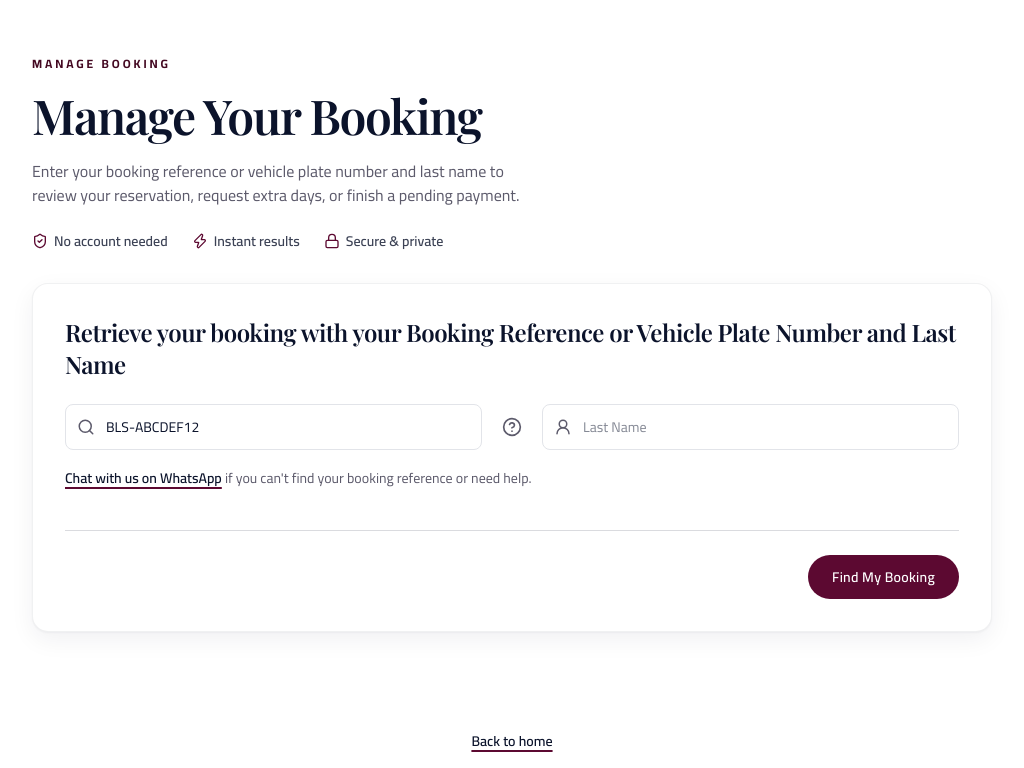
Scenario: ManageBookingPage › ?ref= pre-fill from an email link (Phase 9D) › still looks up the booking once the customer enters their last name and presses the button
Type "Renter" into the field with placeholder "Last Name".
click(750, 427); type("Renter")  # box left=542, top=404, right=959, bottom=450
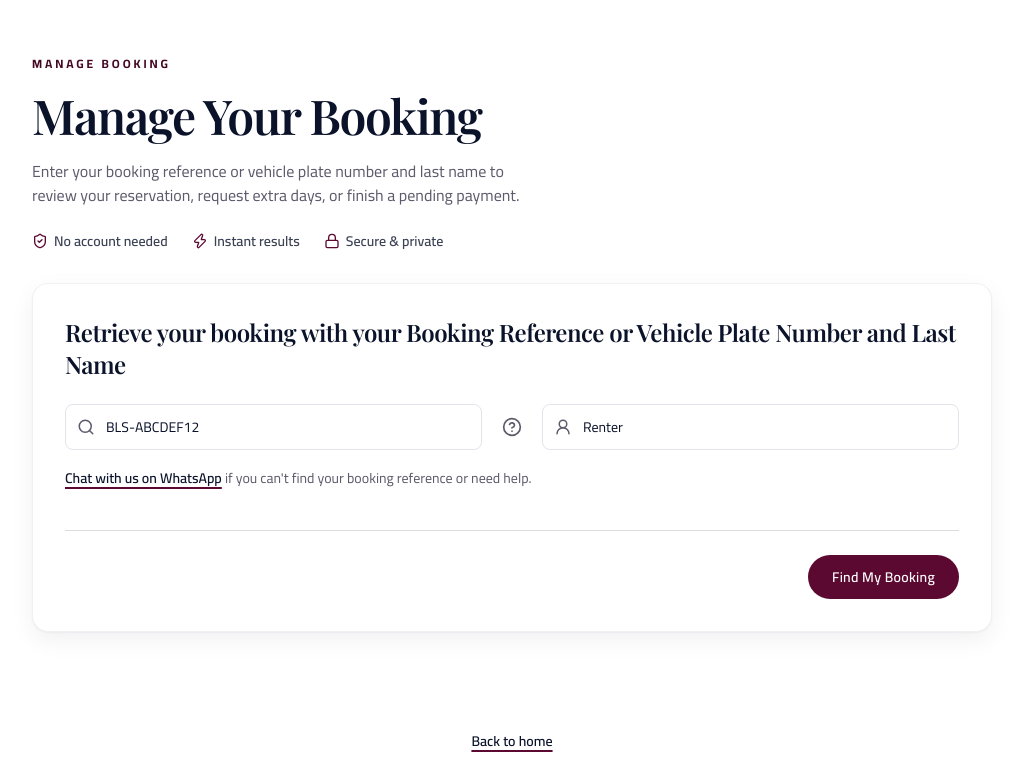
Click the button "Find My Booking".
click(884, 577)  # box left=808, top=555, right=959, bottom=599
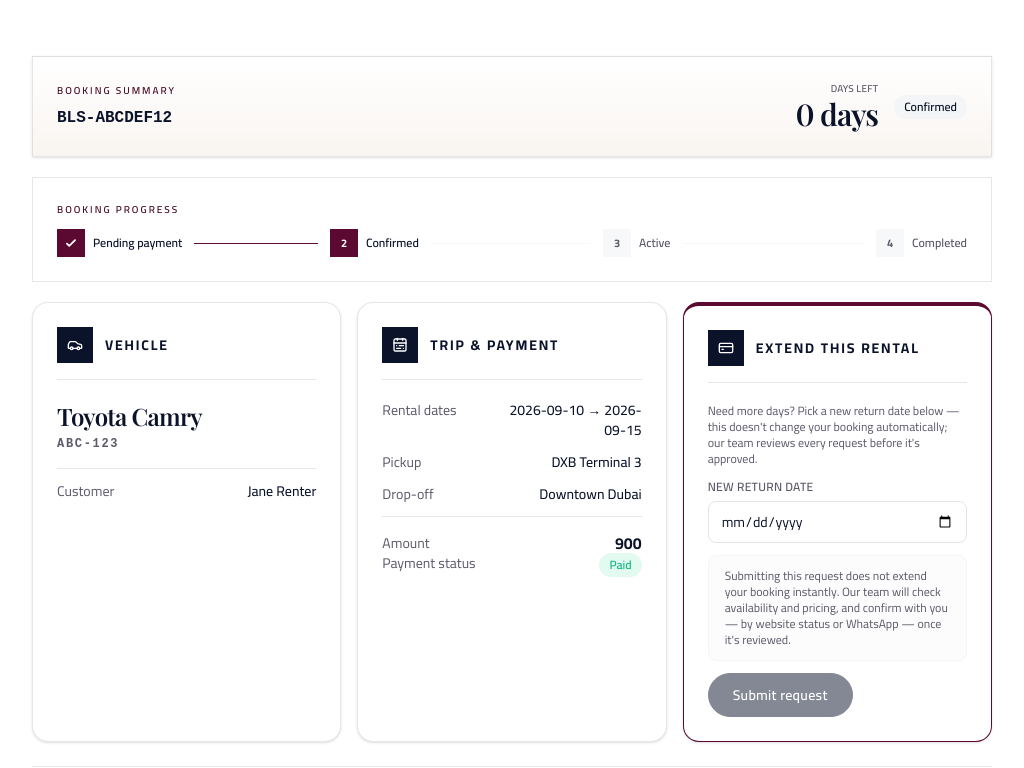
Result: the text "BLS-ABCDEF12" is shown at left=57, top=106, right=176, bottom=130
